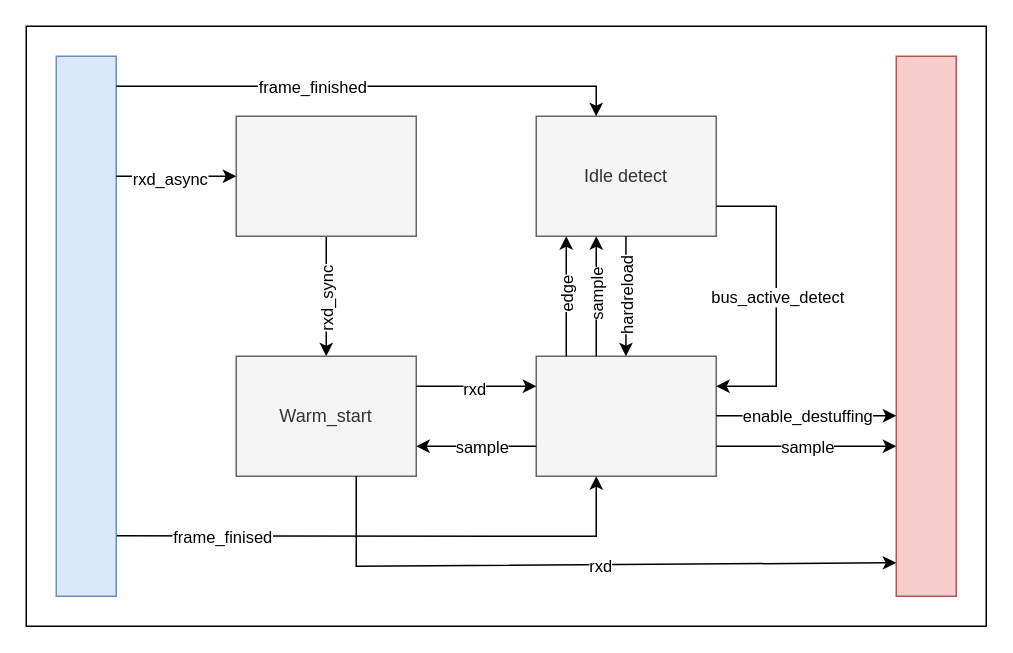
Image size: 1013x653. Some labels were removed from this diagram. Here are the shapes that lost their labels. From the top down, the centre of each, then its label:
At point 325,175: "Sync".
At point 625,415: "Sampling".
